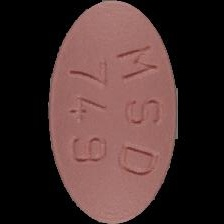0006-0749: (0, 0, 224, 224)
